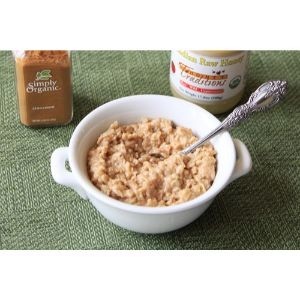oat_brain food: (88, 122, 217, 191)
